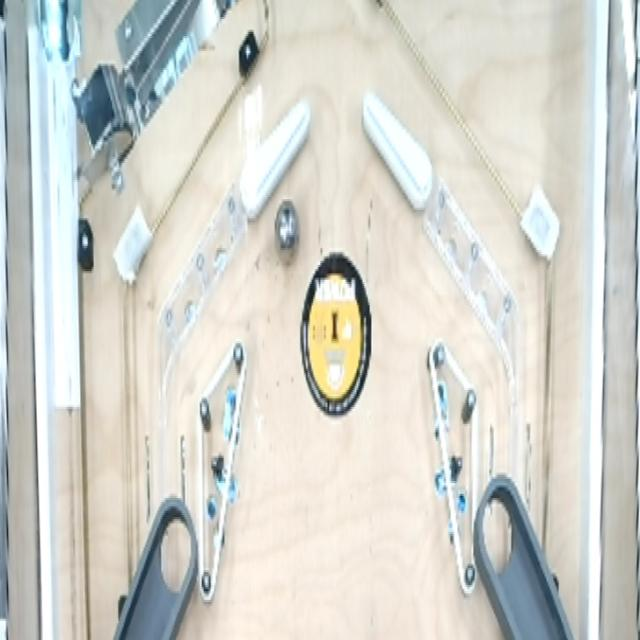ball: (274, 195, 303, 272)
flipper-left: (358, 86, 436, 223)
flipper-right: (233, 89, 314, 230)
